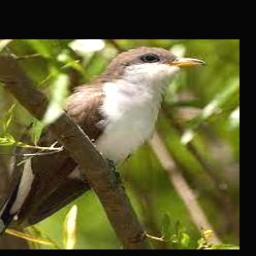Cuckoo: (0, 46, 207, 248)
